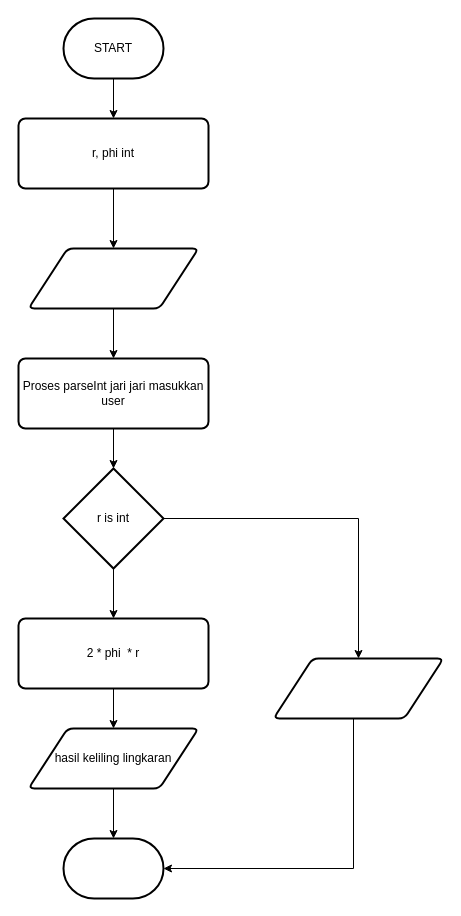
This 461x916 diagram has some shape labels left out. Here are the shapes that lost their labels. From the top down, the centre of each, then its label:
At pixel 113 278: "masukkan jari jari".
At pixel 358 688: "jari jari bukan angka".
At pixel 113 868: "END".
